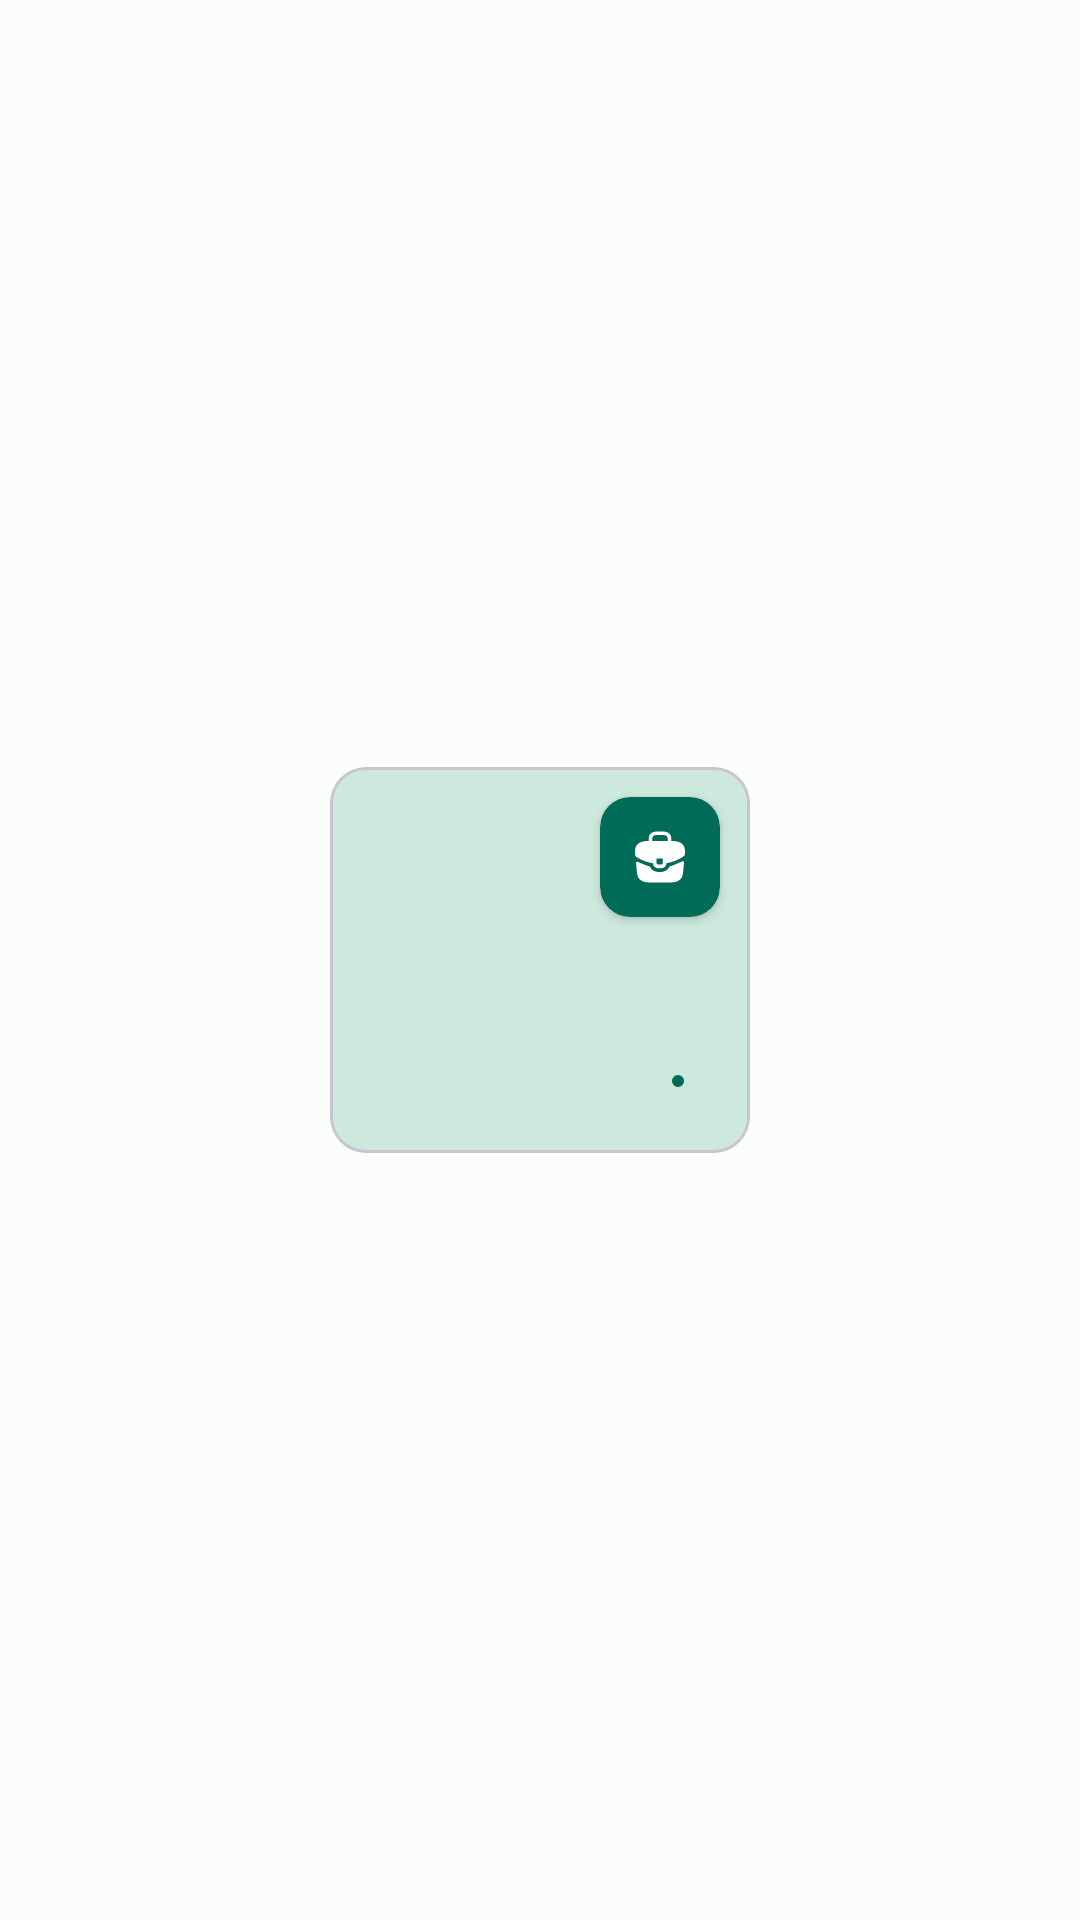

Icon bounding boxes for this 1080w x 1920h phone screenshot, format (x1, y1, x2, y2):
briefcase: (635, 831, 685, 883)
